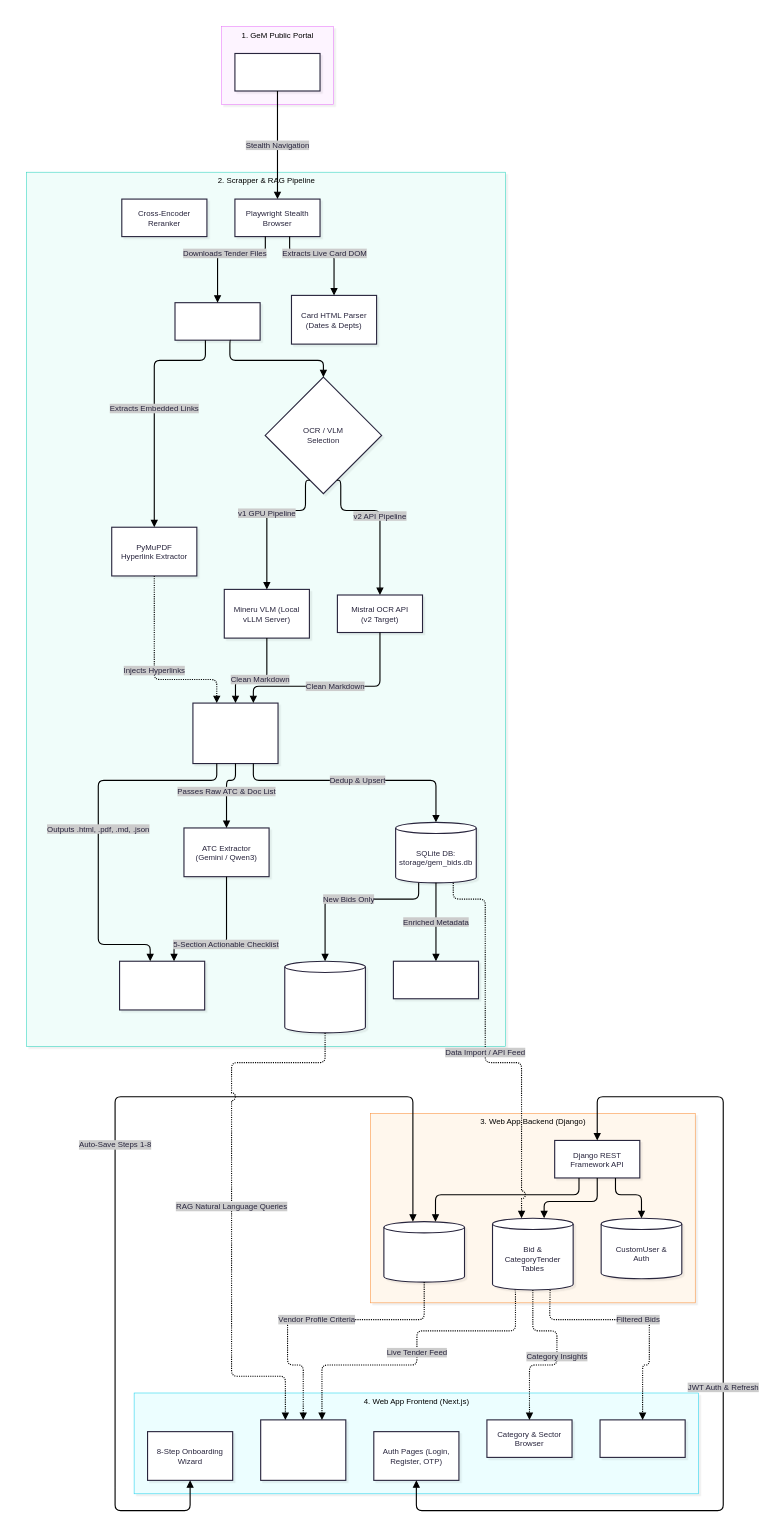
Some shapes in this 768 by 1527 pixel diagram are drawn without their labels. Here are the shapes that lost their labels. From the top down, the centre of each, then its label:
At point 278,73: "bidplus.gem.gov.in/all-bids".
At point 218,322: "PDF Downloader (Bid & RA PDFs)".
At point 236,734: "core/parser.py (Regex Structured Extraction)".
At point 163,986: "Save 4 Files (html, pdf, md, json)".
At point 326,997: "ChromaDB Vector Store (BGE Cosine)".
At point 437,980: "BM25Okapi Keyword Index".
At point 425,1253: "OnboardingProfile (Steps 1-8 JSON)".
At point 304,1451: "Vendor Dashboard (Readiness Score)".
At point 643,1439: "Bid & RA Explorer (Table / Cards)".
